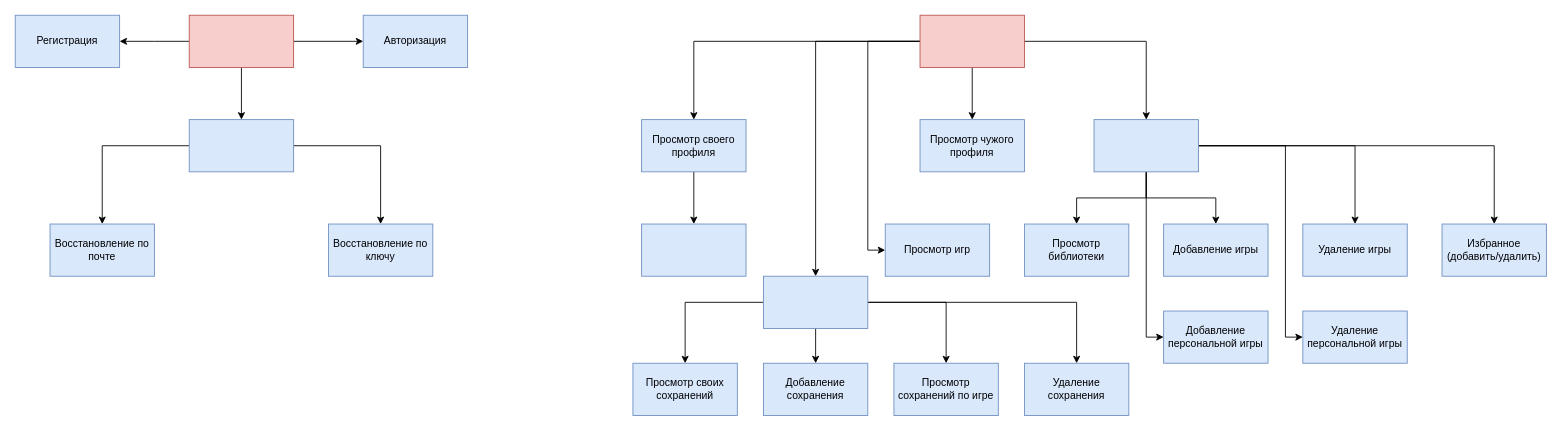
This 1562x431 diagram has some shape labels left out. Here are the shapes that lost their labels. From the top down, the centre of each, then its label:
the point at 241,40: Гость
the point at 971,40: Пользователь
the point at 241,145: Восстановление аккаунта
the point at 1145,145: Работа с библиотекой
the point at 693,249: Редактирование профиля
the point at 815,301: Работа с сохранениями
